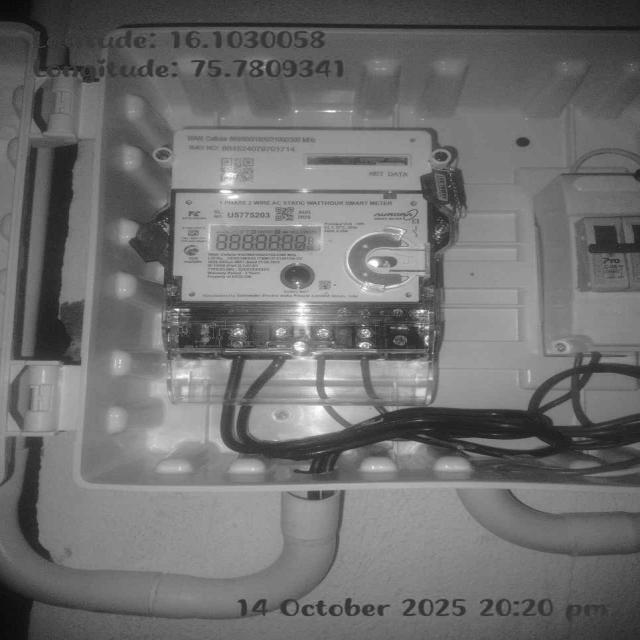meter: (172, 126, 442, 304)
